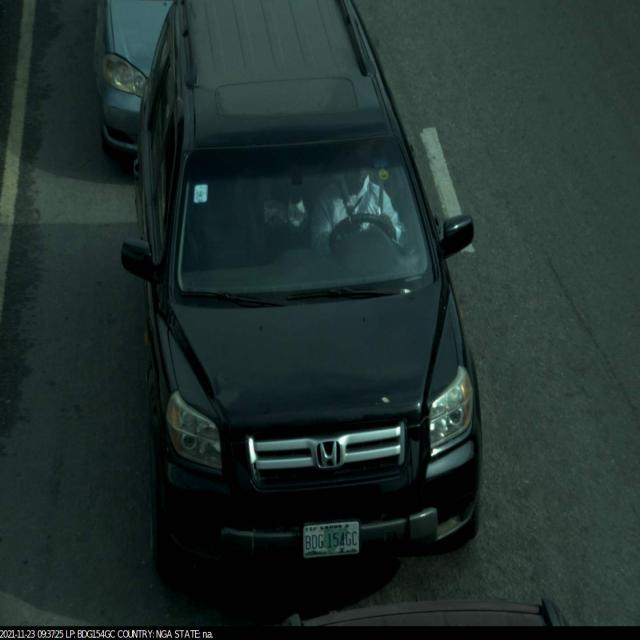windshield: (158, 127, 455, 320)
